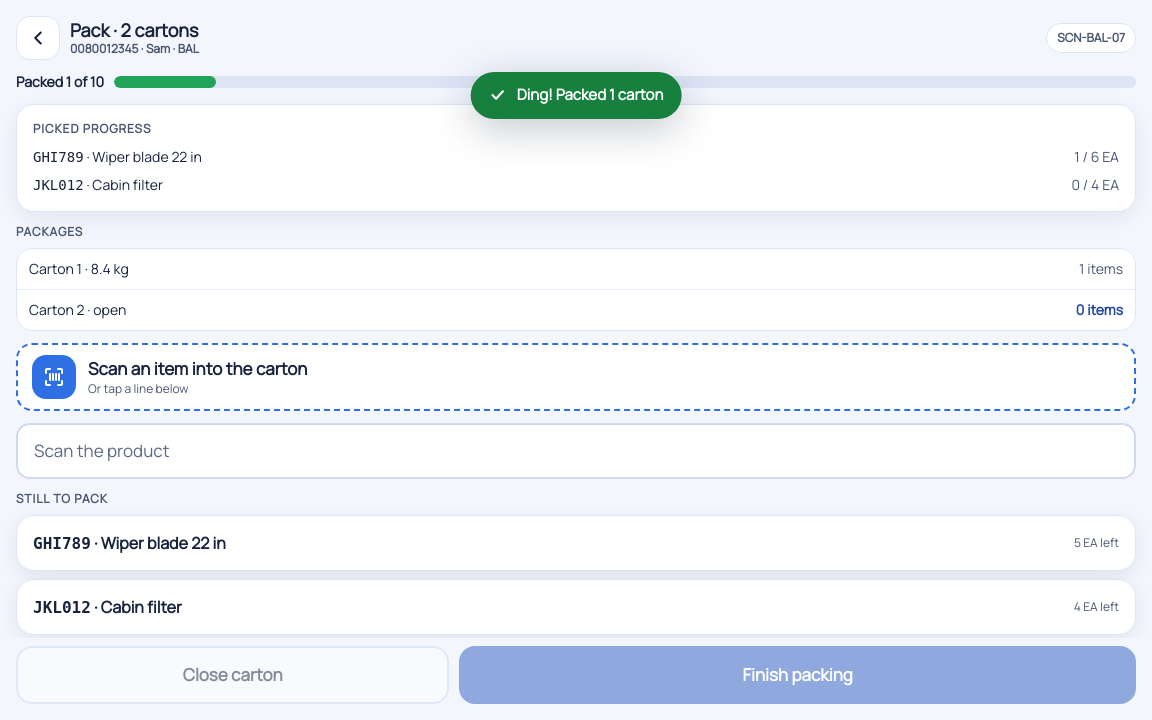
Pack › shows the WMS field error in gold when a carton holds more than was picked
Expected: the text "Packed 1 of 10" is shown, x1=16 y1=72 x2=104 y2=92
Click the button "GHI789 · Wiper blade 22 in 5 EA left" at (62, 543), box x1=16 y1=515 x2=1136 y2=571
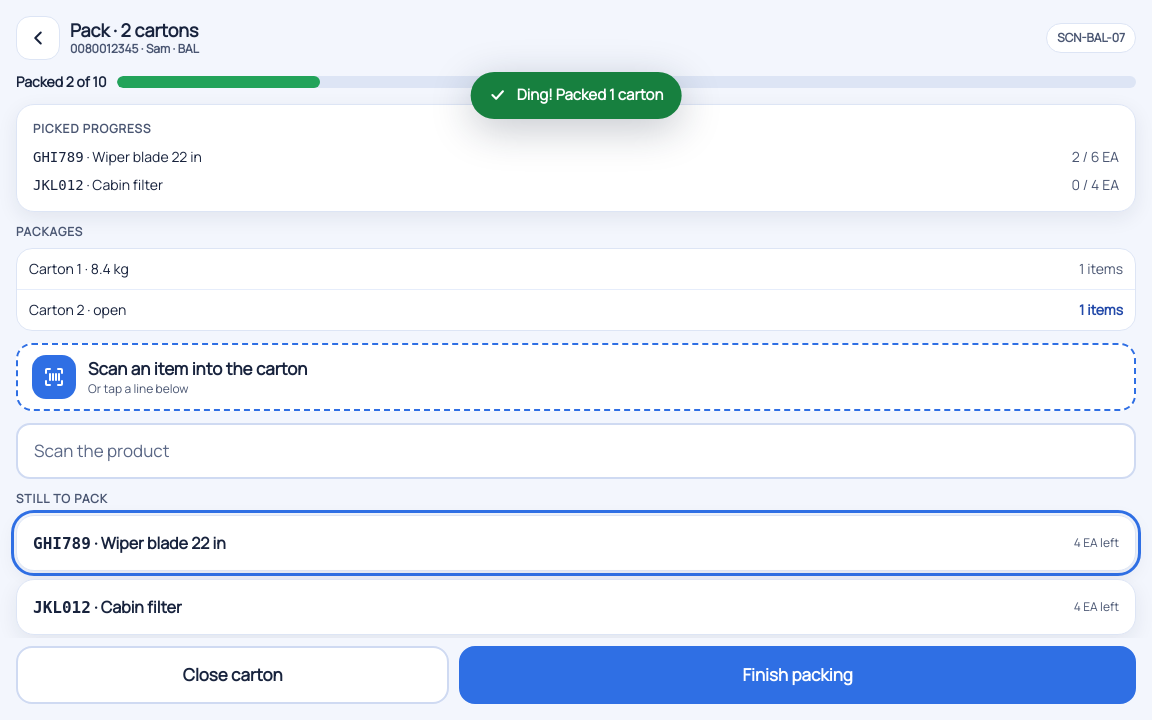
Click the button "Finish packing" at (798, 675), box x1=459 y1=646 x2=1136 y2=704
(page scrolled)
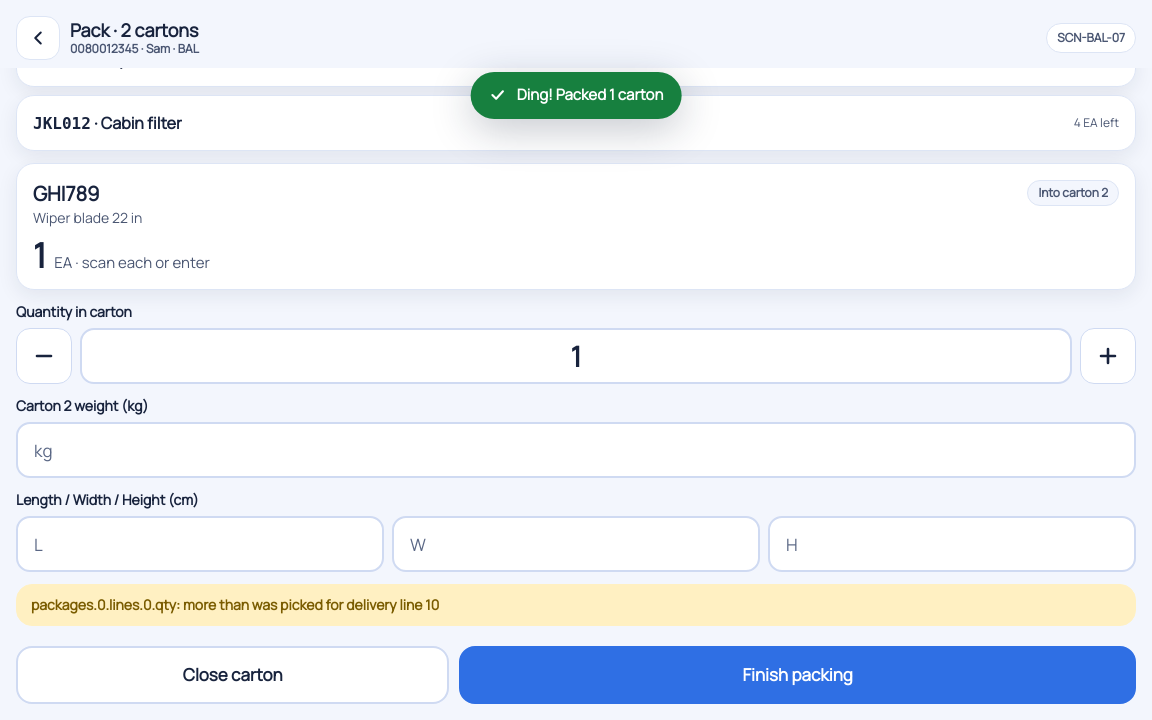
Result: the text "packages.0.lines.0.qty: more than was picked for delivery line 10" is shown at x1=16 y1=584 x2=1136 y2=626
